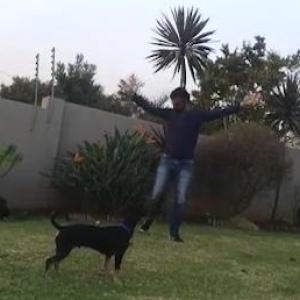takeoff: (114, 78, 258, 231)
